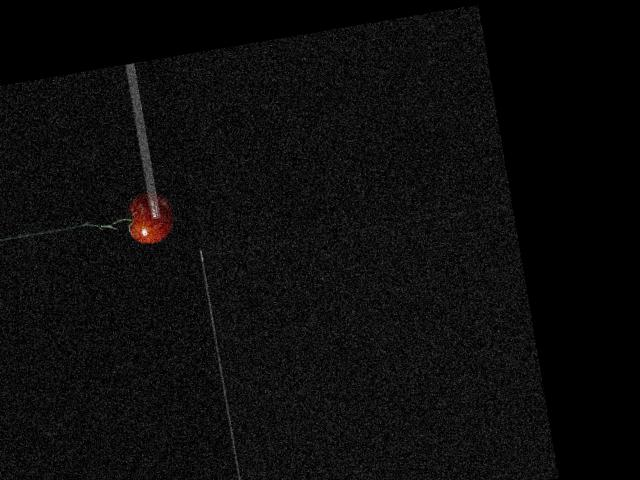tomato: (124, 190, 175, 245)
